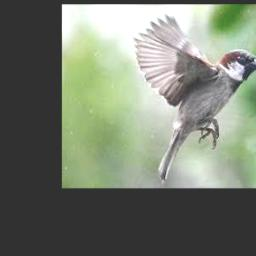Sparrow: (133, 13, 256, 182)
